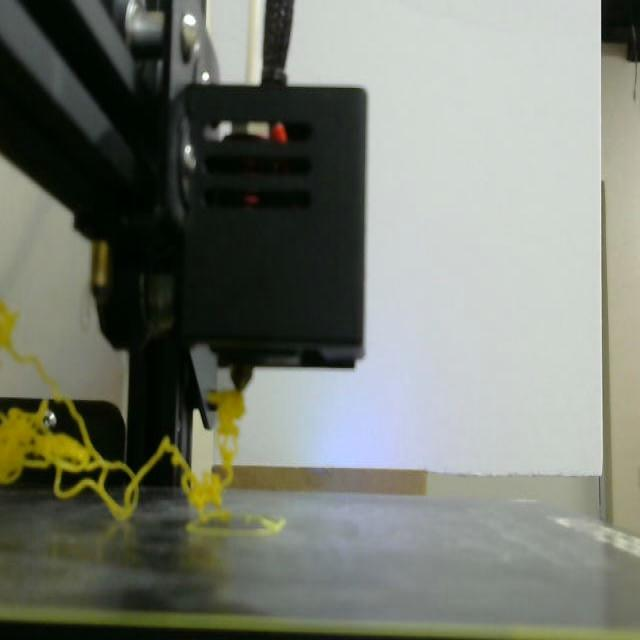spaghetti: (0, 302, 285, 534)
